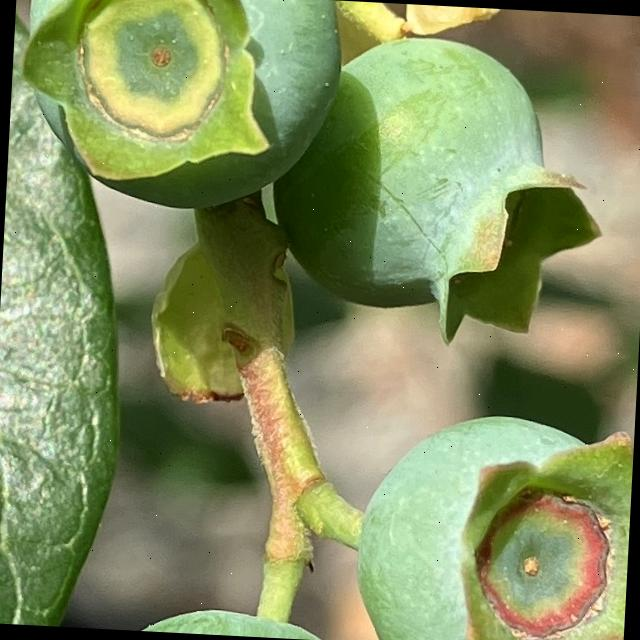Blueberries: (348, 404, 635, 640)
